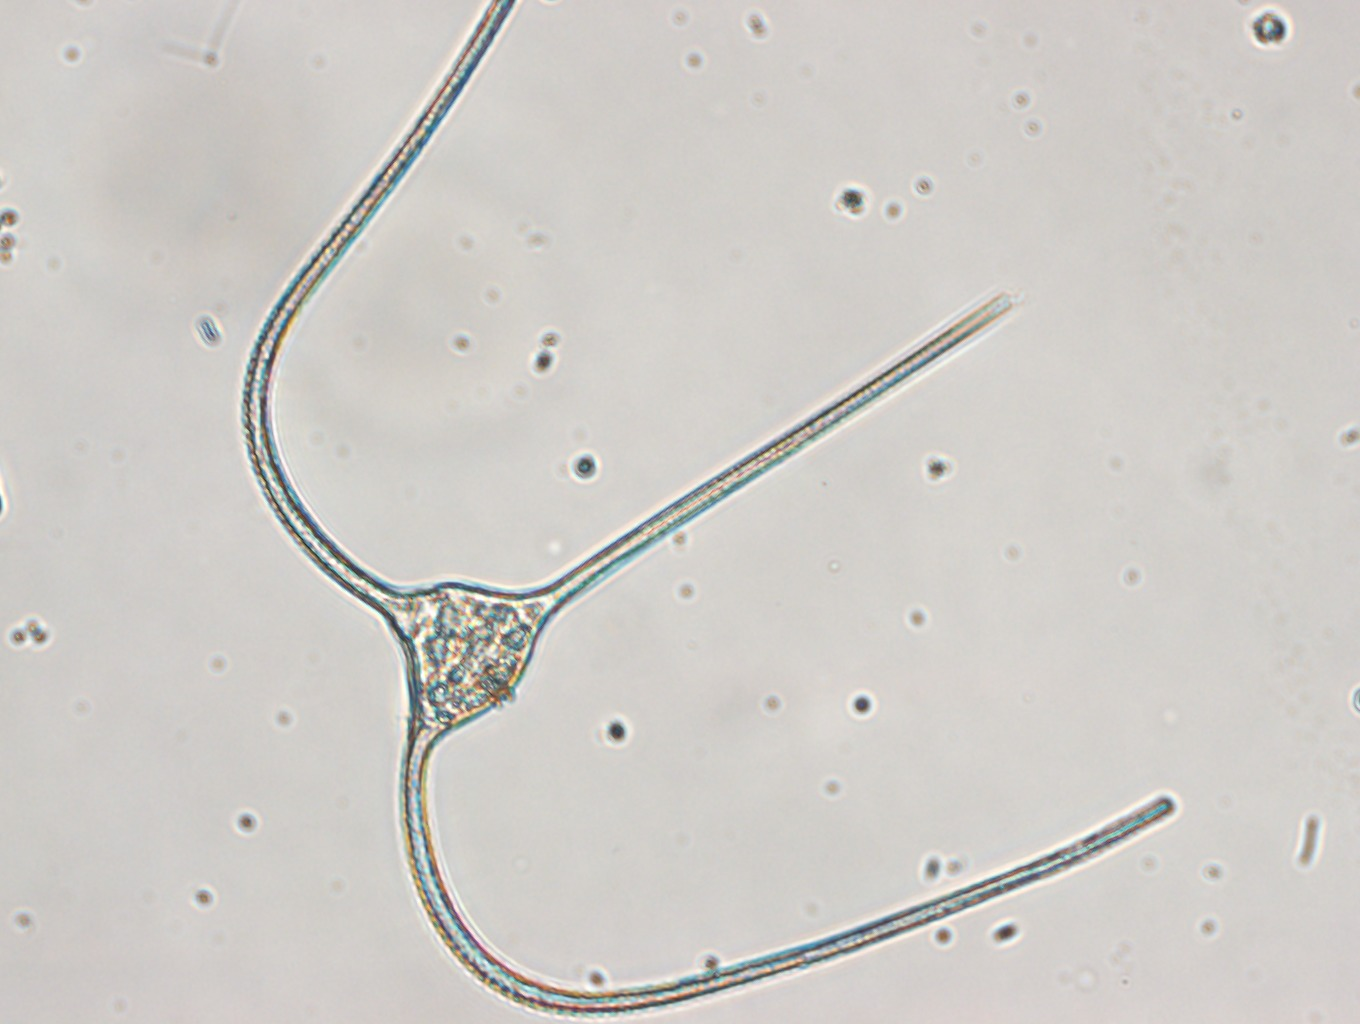ceratium trichoceros: (240, 2, 1184, 1021)
